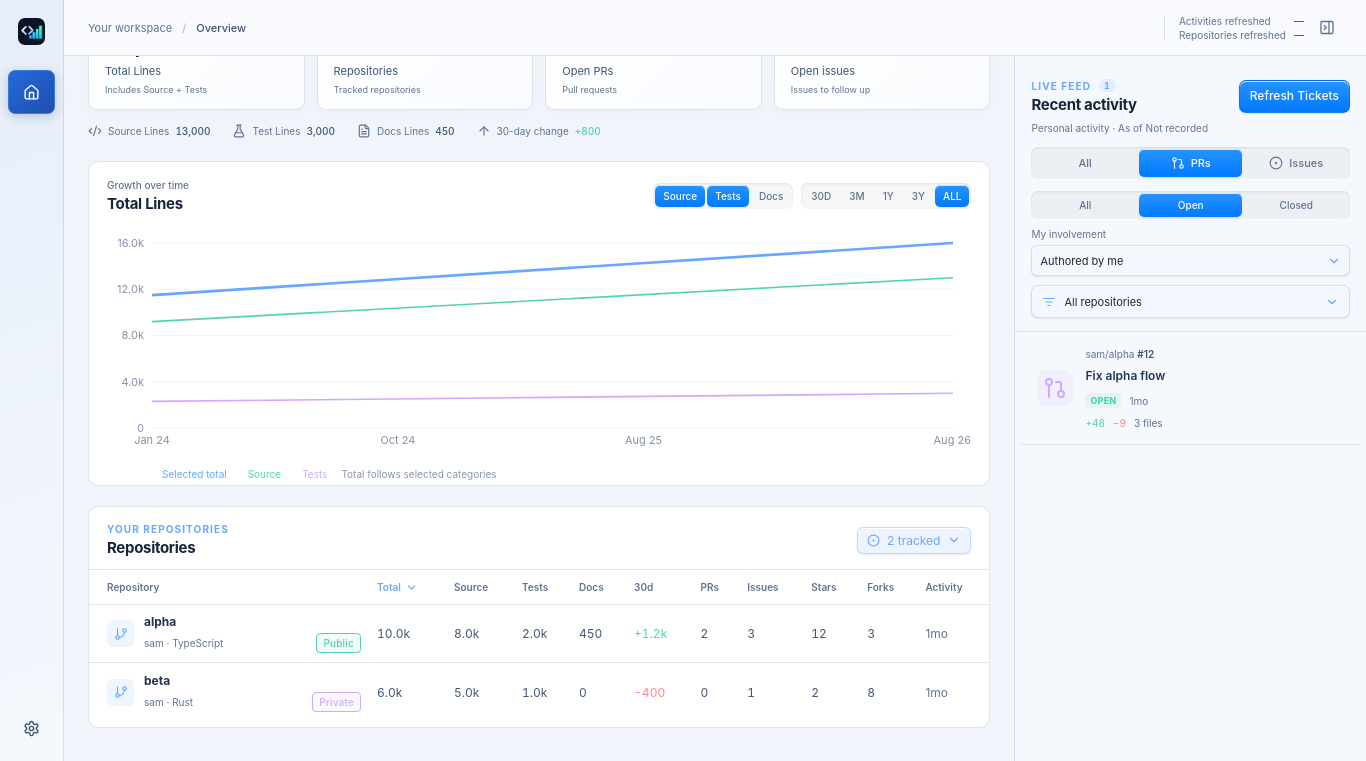
it: dashboard UI › keeps the detail activity sidebar scoped across feed tabs and restores its repository filter on back
This screenshot has width=1366, height=761.
(page scrolled)
Click the row "alpha": (539,634) [89,605,990,663]
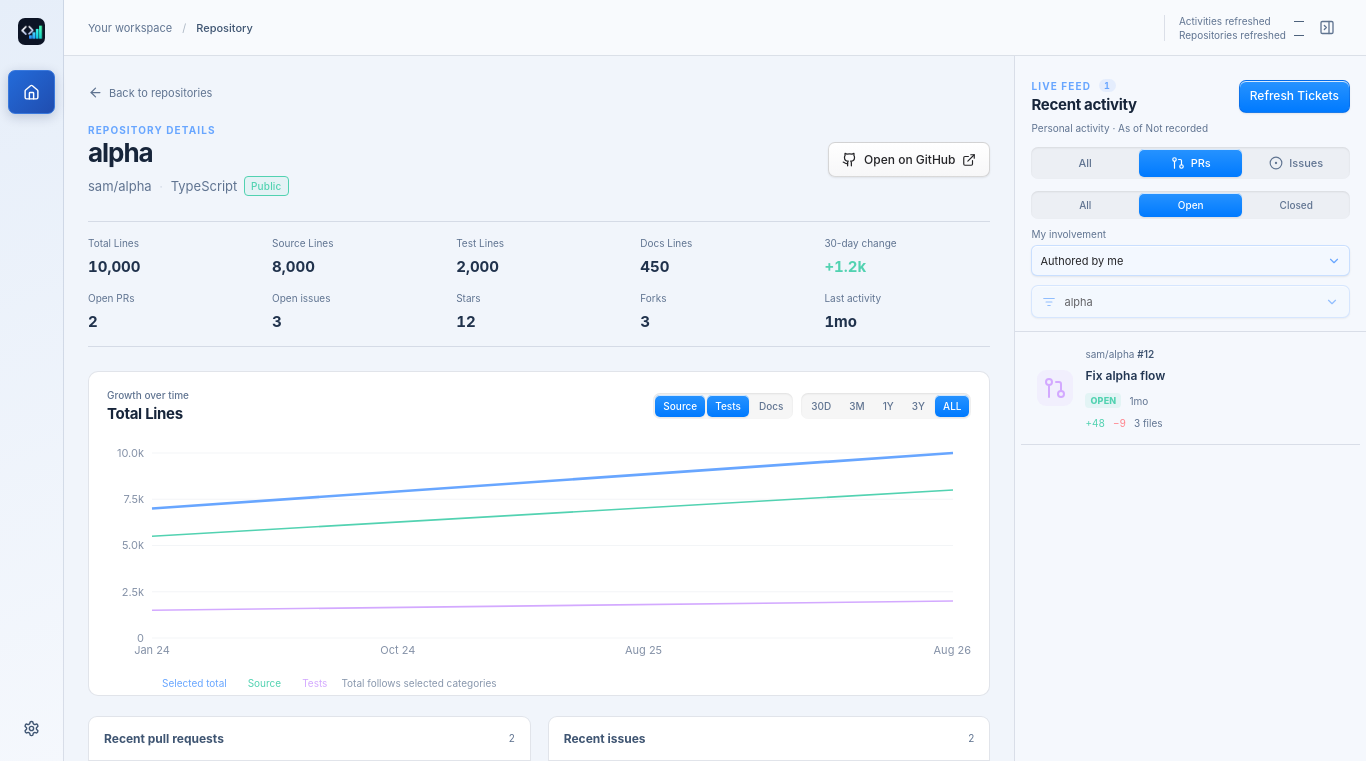
Expected: the text "Fix alpha flow" is shown, [1086,368,1165,383]
Result: the heading "alpha" is shown at [88,137,153,168]
Result: the button with aria-label "Filter by repository: alpha" is disabled at [1032,285,1350,318]
Click the button "Issues": (1296,163) [1244,149,1348,177]
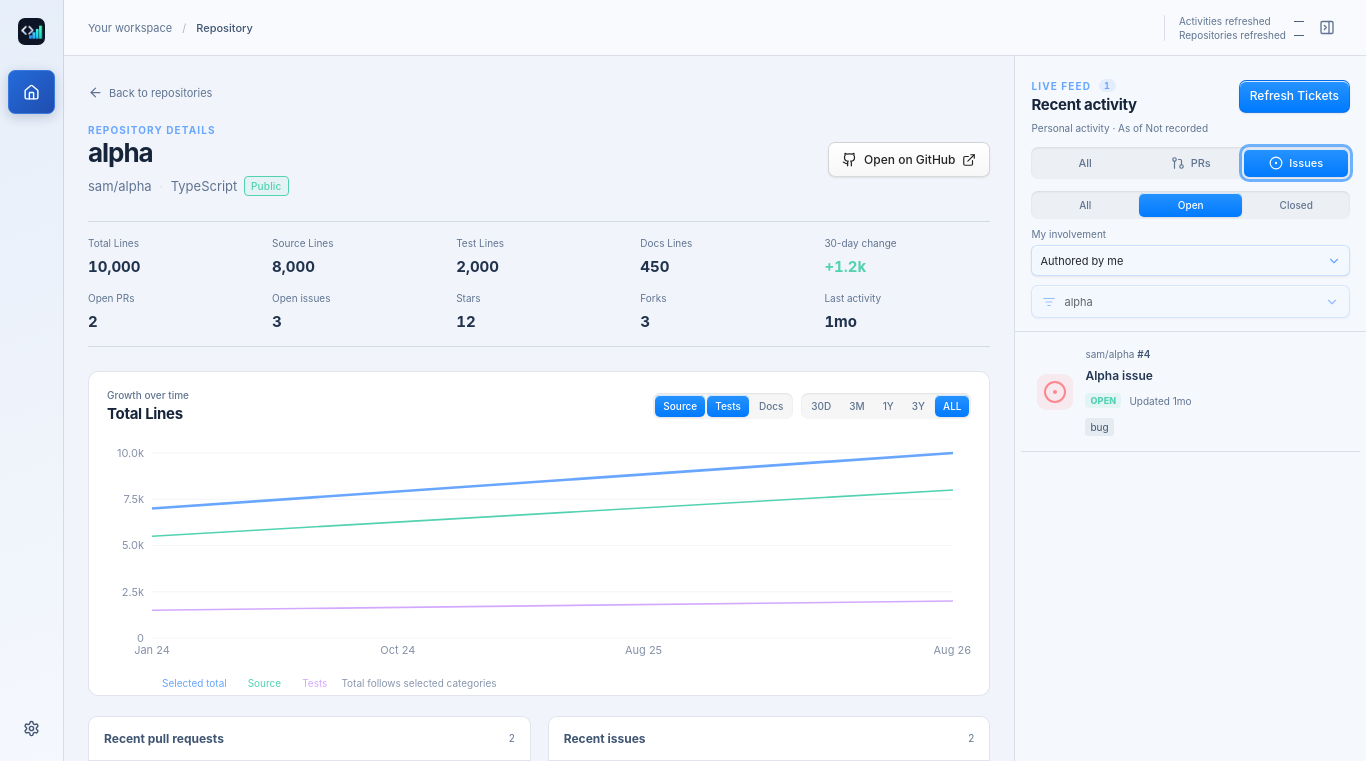
Result: the button with aria-label "Filter by repository: alpha" is disabled at [1032,285,1350,318]
Result: the text "Alpha issue" is shown at [1086,368,1153,383]
Click the button with aria-label "Pull requests": (1191,163) [1139,149,1242,177]
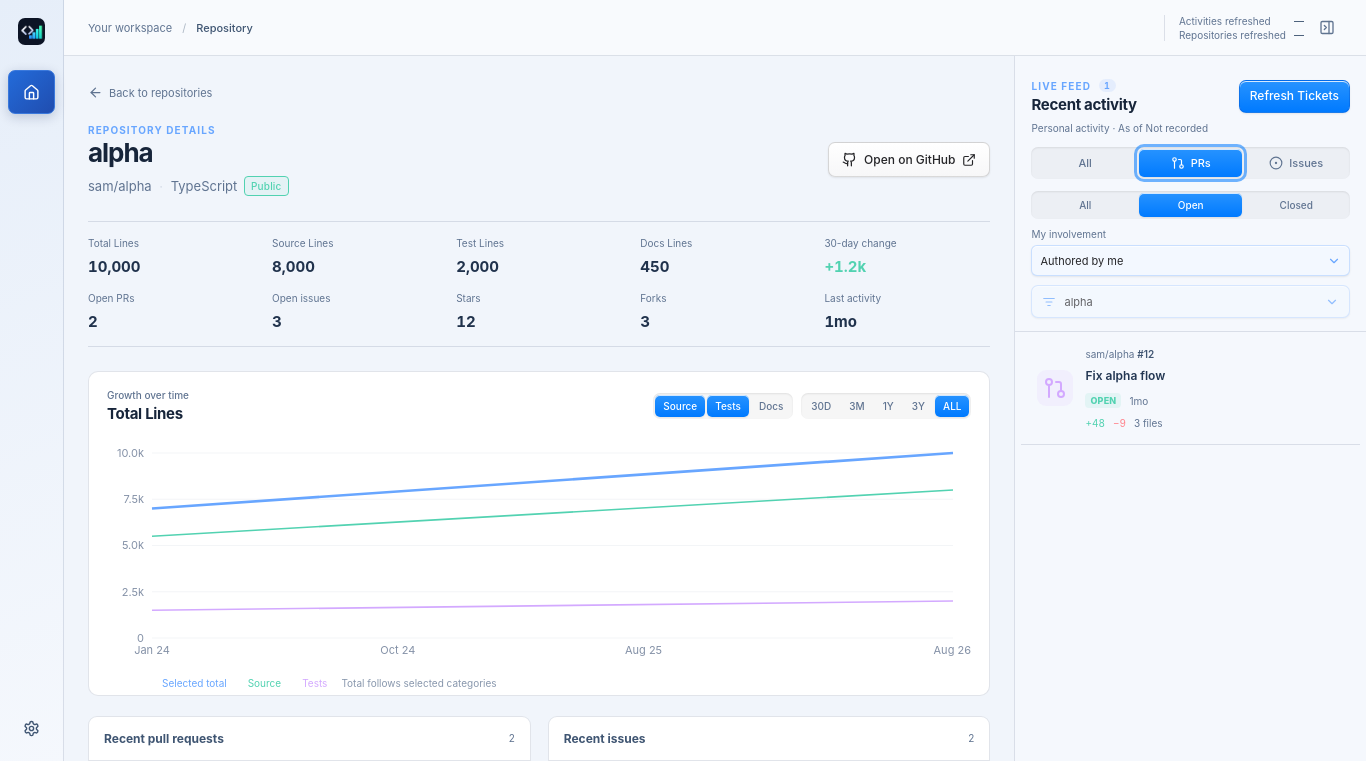
Result: the button with aria-label "Filter by repository: alpha" is disabled at [1032,285,1350,318]
Result: the text "Fix alpha flow" is shown at [1086,368,1165,383]
Click the button "Back to repositories": (150,92) [88,85,212,100]
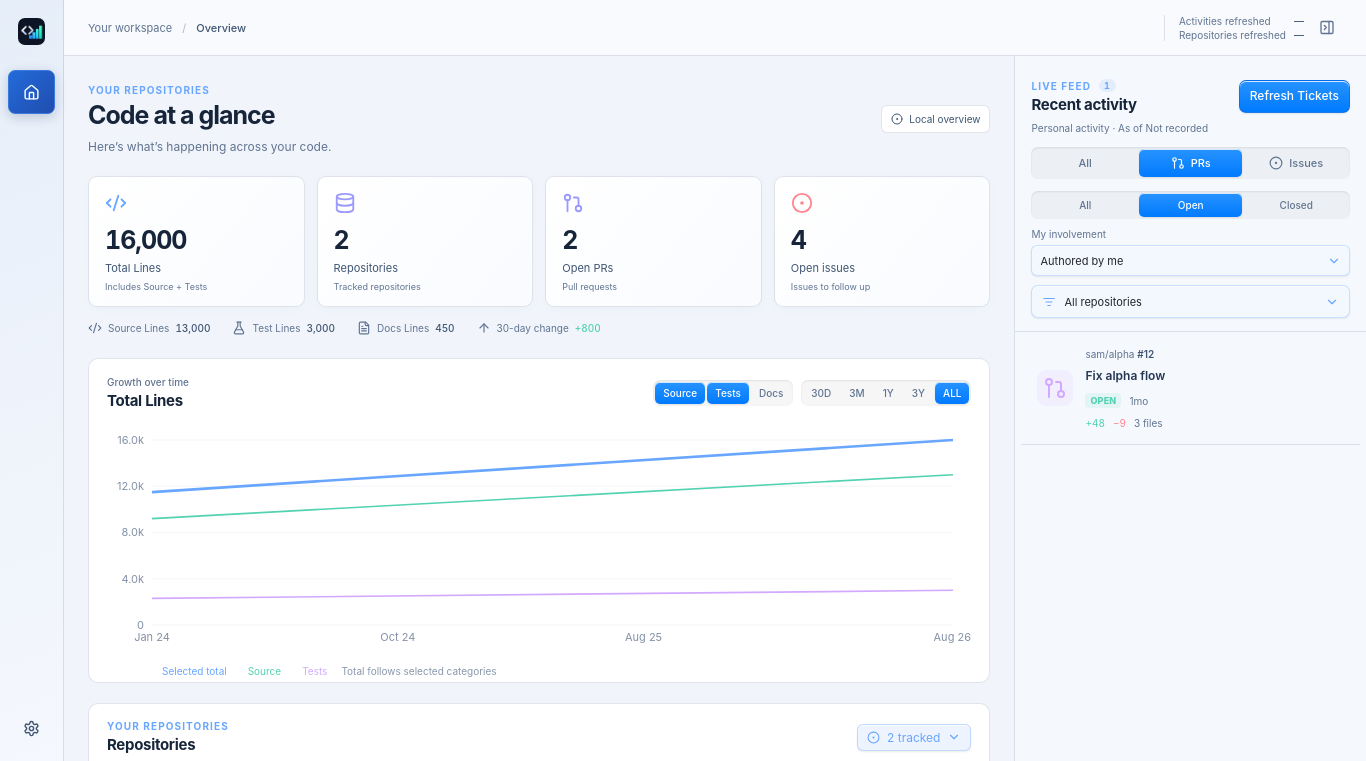
Result: the heading "Code at a glance" is shown at [88,100,275,130]
Click the 2nd button "All": (1085,205) [1034,193,1137,217]
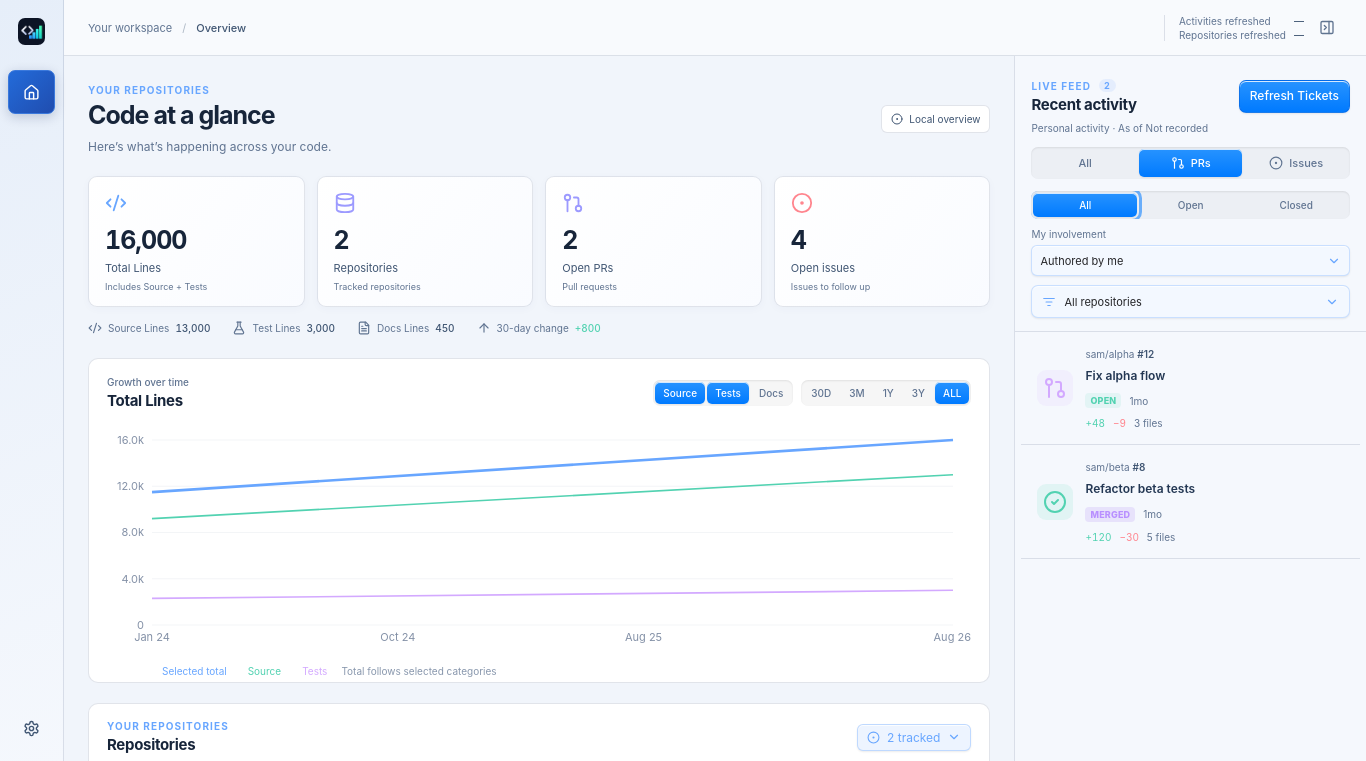
Result: the text "Fix alpha flow" is shown at [1086,368,1165,383]
Result: the text "Refactor beta tests" is shown at [1086,481,1195,496]
